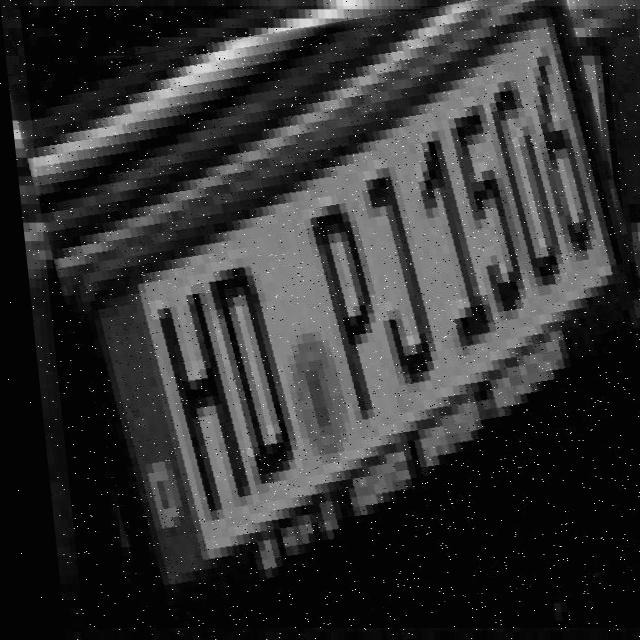LicensePlate: (19, 6, 640, 628)
